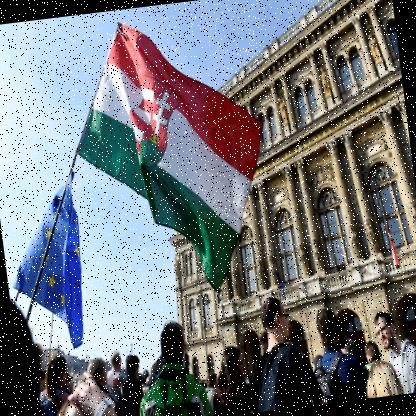hu: (63, 1, 285, 310)
